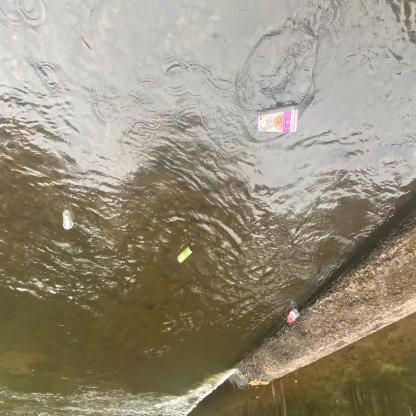Metal: (173, 242, 196, 266)
Plastic: (284, 305, 303, 326), (61, 207, 76, 232)
